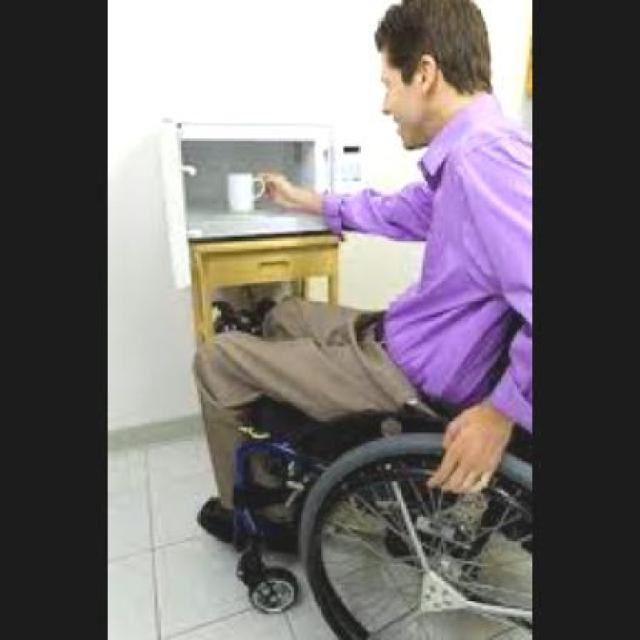wheelchairs: (226, 282, 532, 639)
